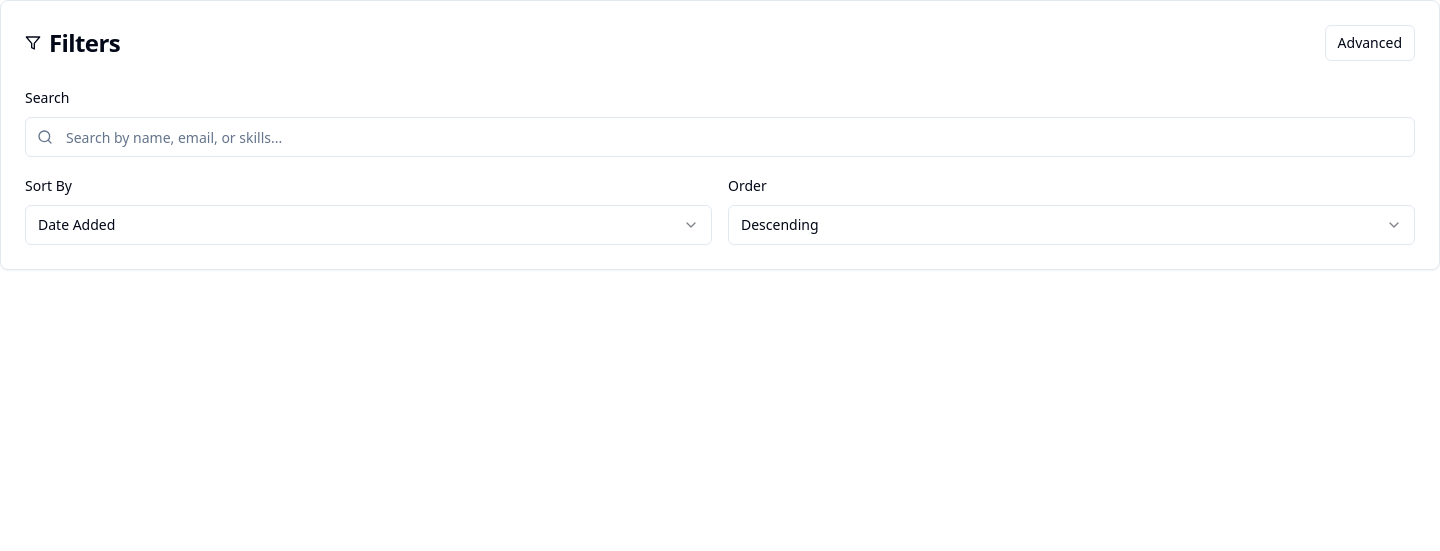
Test: CandidateFilters › shows advanced filters when Advanced button is clicked
Click the button "Advanced" at (1370, 43), box [1325,25,1415,61]
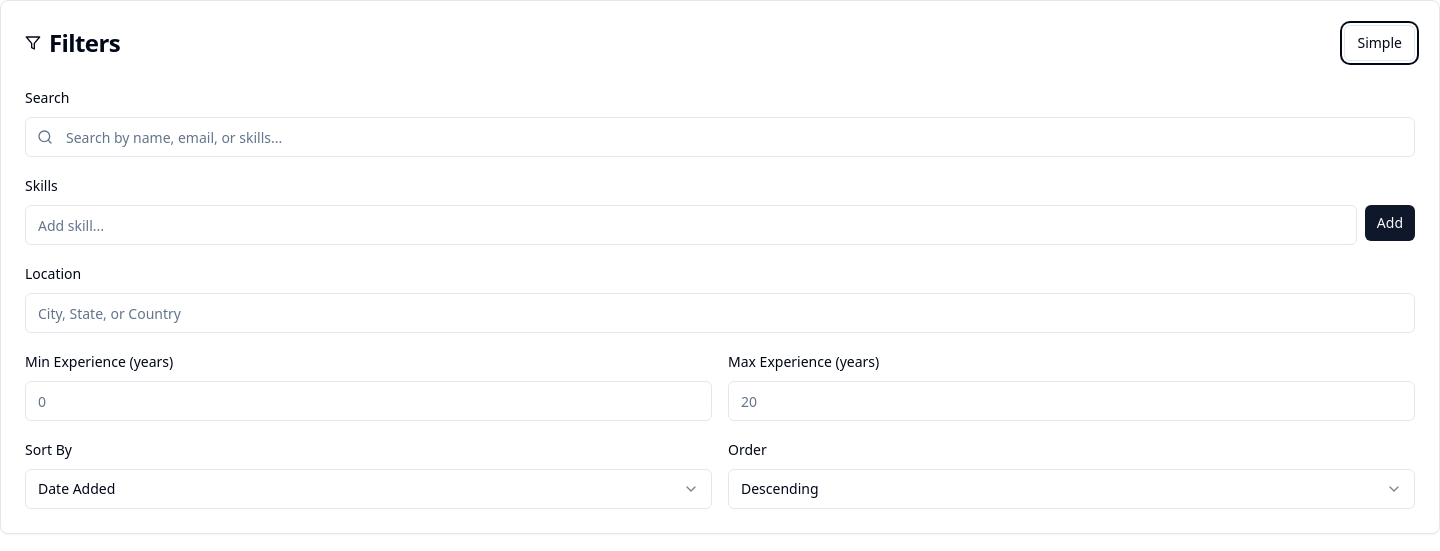
Now the text "Skills" is shown, box [25,176,58,195]
Now the text "Location" is shown, box [25,264,81,283]
Now the text "Min Experience (years)" is shown, box [25,352,173,371]
